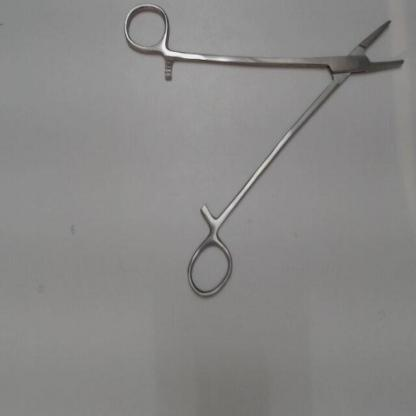8 Mayo Needle Holder: (119, 1, 412, 307)
